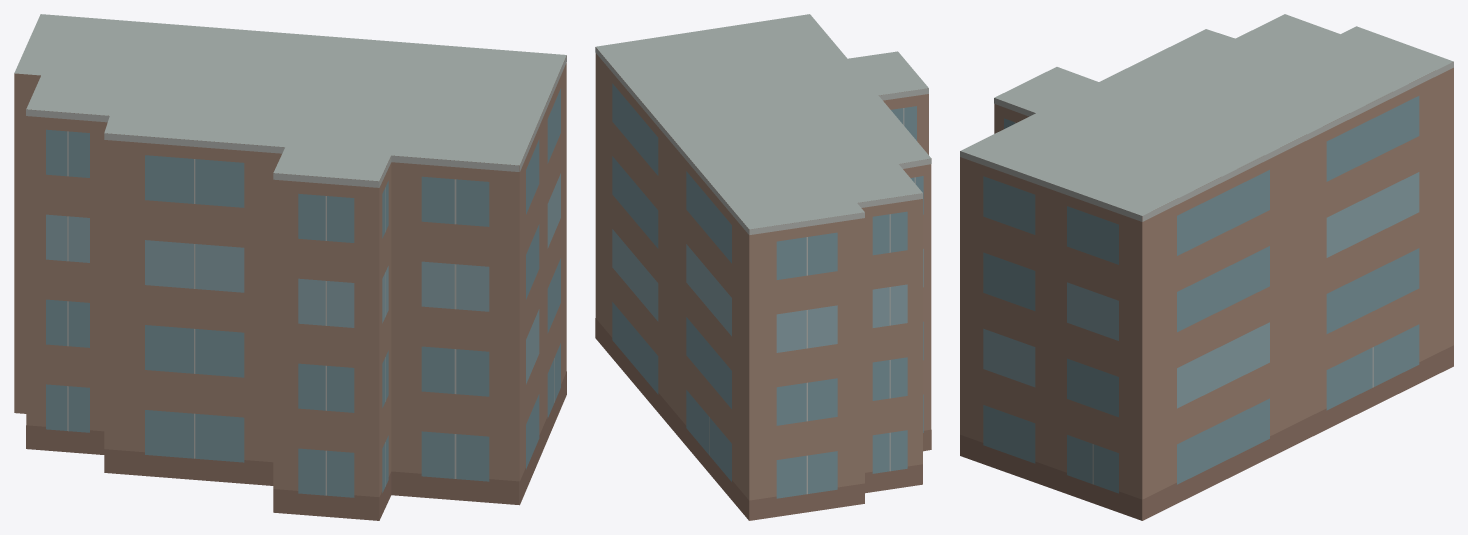
File: survey-upis-32690386.glb
3 views of the same model, side by side, from view 1: azimuth 30°, elevation 25°; view 2: azimuth 150°, elevation 25°; view 3: azimuth 270°, elevation 25° (orthographic). The views are drawn at different scales.
Visible parts, largest first — view 1: survey-upis-32690386.tmp; view 2: survey-upis-32690386.tmp; view 3: survey-upis-32690386.tmp.
Boxes of the visible parts, left/top/right/bottom form: survey-upis-32690386.tmp: left=14, top=14, right=566, bottom=520; survey-upis-32690386.tmp: left=595, top=14, right=931, bottom=520; survey-upis-32690386.tmp: left=960, top=14, right=1453, bottom=520.
Bounding box in the file's own units: 17.63 × 12.4 × 18.21.
